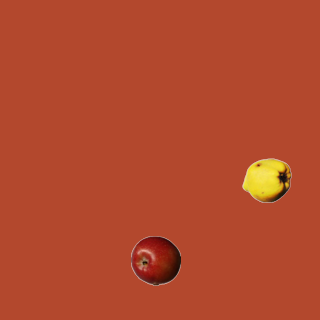Apple Braeburn: (130, 235, 180, 285)
Quince: (241, 155, 291, 205)
